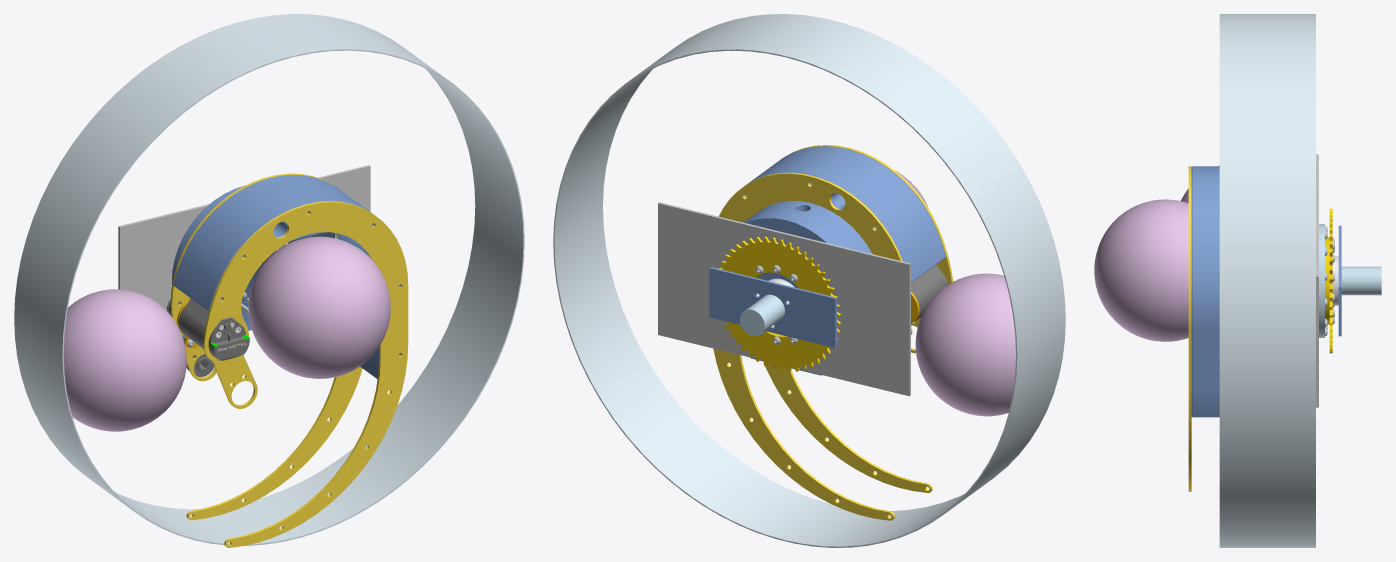
Rendered from indexer.gltf.
The picture shows the model from 3 angles, left to right: view 1: azimuth 30°, elevation 25°; view 2: azimuth 150°, elevation 25°; view 3: azimuth 270°, elevation 25°; orthographic projection.
Visible parts, largest first — view 1: Part 12, FRC Game Piece (×2), Part 2, Part 4, Part 9, Part 1, Kraken X44 Brushless Motor; view 2: Part 12, Part 9, Part 4, FRC Game Piece, Part 1, 48t Sprocket (#35 Chain), Part 10, Part 2, am-4896 6-Wire Slip Ring Connector, Kraken X44 Brushless Motor; view 3: Part 12, FRC Game Piece, Part 4, Part 2, am-4896 6-Wire Slip Ring Connector, Part 9, Part 8, 48t Sprocket (#35 Chain), Part 10, Part 6.
Part boxes in pixels (x1=…): Part 12: x1=14, y1=14, x2=524, y2=545; FRC Game Piece (×2): x1=63, y1=236, x2=390, y2=431; Part 2: x1=203, y1=201, x2=408, y2=547; Part 4: x1=172, y1=175, x2=400, y2=378; Part 9: x1=118, y1=165, x2=370, y2=310; Part 1: x1=170, y1=173, x2=362, y2=520; Kraken X44 Brushless Motor: x1=178, y1=299, x2=249, y2=360; Part 12: x1=553, y1=14, x2=1065, y2=547; Part 9: x1=658, y1=202, x2=910, y2=396; Part 4: x1=744, y1=146, x2=946, y2=375; FRC Game Piece: x1=915, y1=273, x2=1015, y2=416; Part 1: x1=713, y1=172, x2=902, y2=520; 48t Sprocket (#35 Chain): x1=718, y1=236, x2=840, y2=371; Part 10: x1=709, y1=267, x2=836, y2=347; Part 2: x1=765, y1=145, x2=953, y2=492; am-4896 6-Wire Slip Ring Connector: x1=740, y1=278, x2=794, y2=335; Kraken X44 Brushless Motor: x1=911, y1=265, x2=953, y2=320; Part 12: x1=1219, y1=14, x2=1315, y2=547; FRC Game Piece: x1=1094, y1=199, x2=1188, y2=341; Part 4: x1=1191, y1=166, x2=1219, y2=417; Part 2: x1=1188, y1=166, x2=1191, y2=491; am-4896 6-Wire Slip Ring Connector: x1=1341, y1=266, x2=1381, y2=295; Part 9: x1=1316, y1=154, x2=1318, y2=407; Part 8: x1=1319, y1=224, x2=1324, y2=337; 48t Sprocket (#35 Chain): x1=1329, y1=208, x2=1332, y2=353; Part 10: x1=1338, y1=225, x2=1341, y2=336; Part 6: x1=1325, y1=237, x2=1329, y2=324.
Bounding box in the file's own units: 0.562 × 0.5615 × 0.3025.
